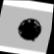correct: (13, 16, 45, 43)
